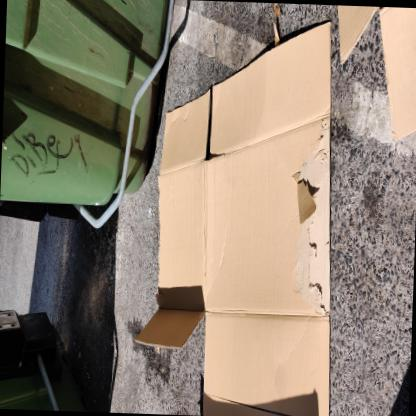Paper: (135, 20, 331, 416), (338, 5, 416, 142)
